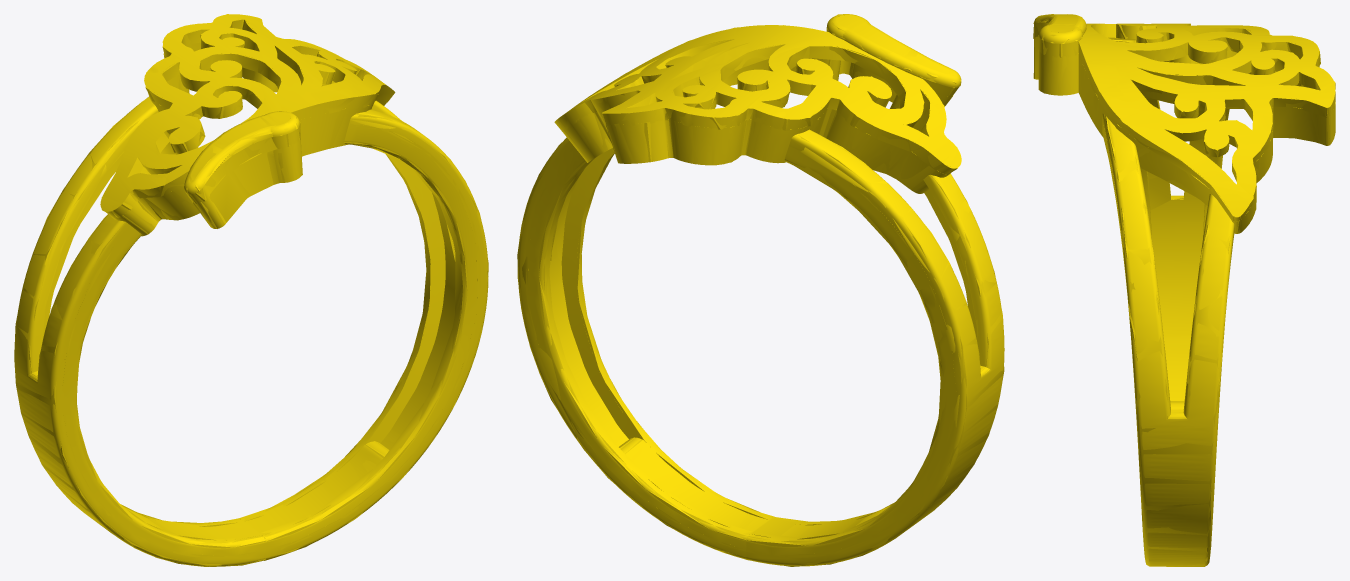
File: GLR-D000705679.glb
3 renders of one model, left to right at view 1: azimuth 30°, elevation 25°; view 2: azimuth 150°, elevation 25°; view 3: azimuth 270°, elevation 25°, orthographic. The views are drawn at different scales.
Visible parts, largest first — view 1: highPolyMesh, lowPolyMesh; view 2: highPolyMesh, lowPolyMesh; view 3: highPolyMesh, lowPolyMesh.
Boxes of the visible parts, x1,y1,x2,y2 form: highPolyMesh: (14,14,488,566); lowPolyMesh: (14,14,488,566); highPolyMesh: (518,14,1004,566); lowPolyMesh: (517,14,1004,566); highPolyMesh: (1034,14,1335,566); lowPolyMesh: (1033,14,1335,566).
Size of the model in its own units: 0.0192 by 0.0202 by 0.0111.
